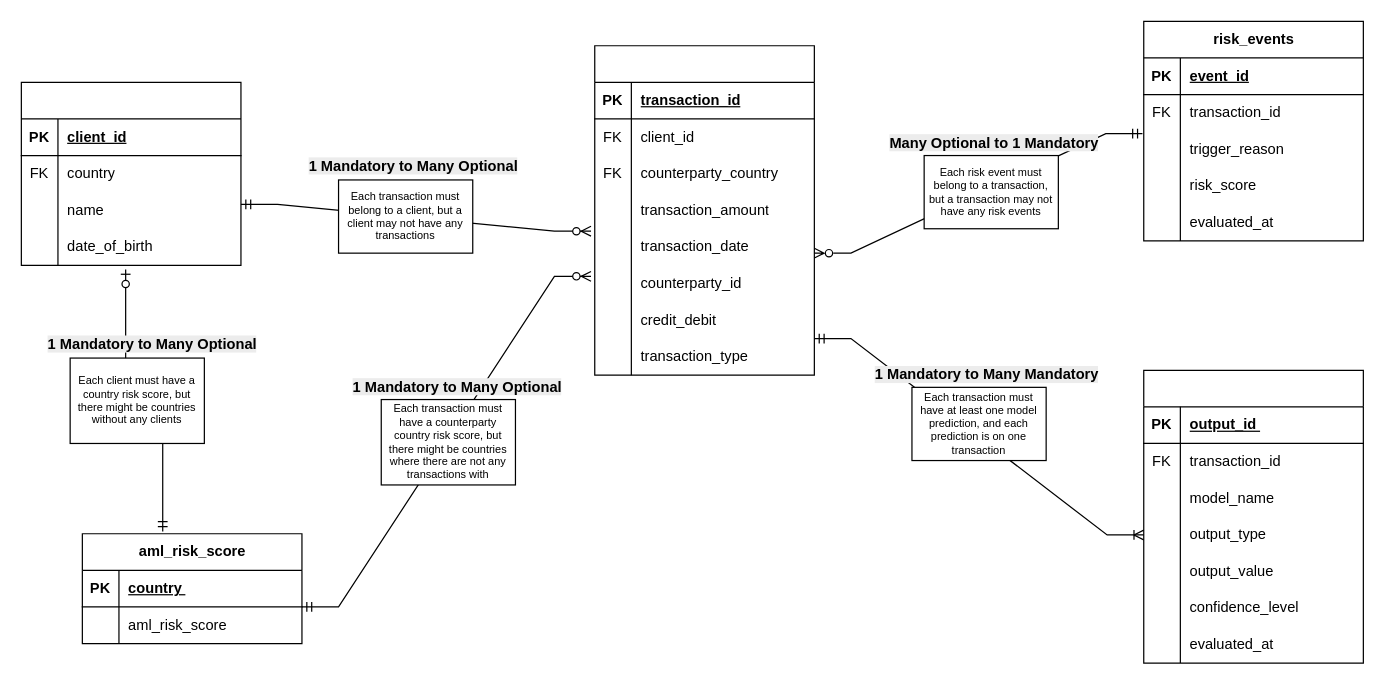
Image size: 1385x684. Some labels were removed from this diagram. The box of each missing label's shape, as (x1, y1, x2, y2) in pixels:
clients: (20, 81, 241, 265)
model_outputs: (1143, 369, 1363, 663)
transactions: (594, 45, 814, 375)
